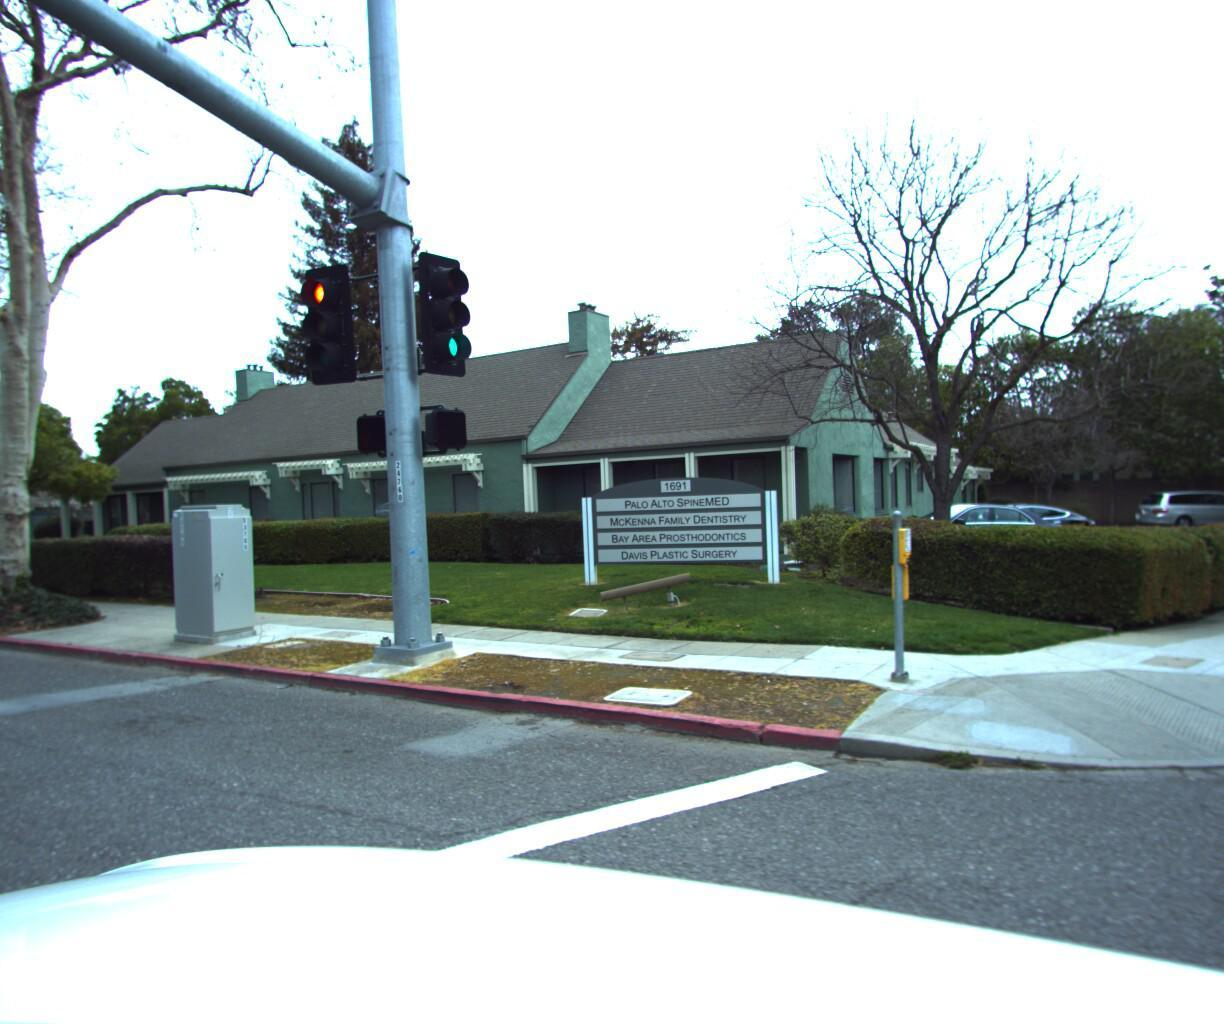car: (869, 488, 1089, 570), (922, 491, 1109, 552), (1128, 478, 1224, 527)
